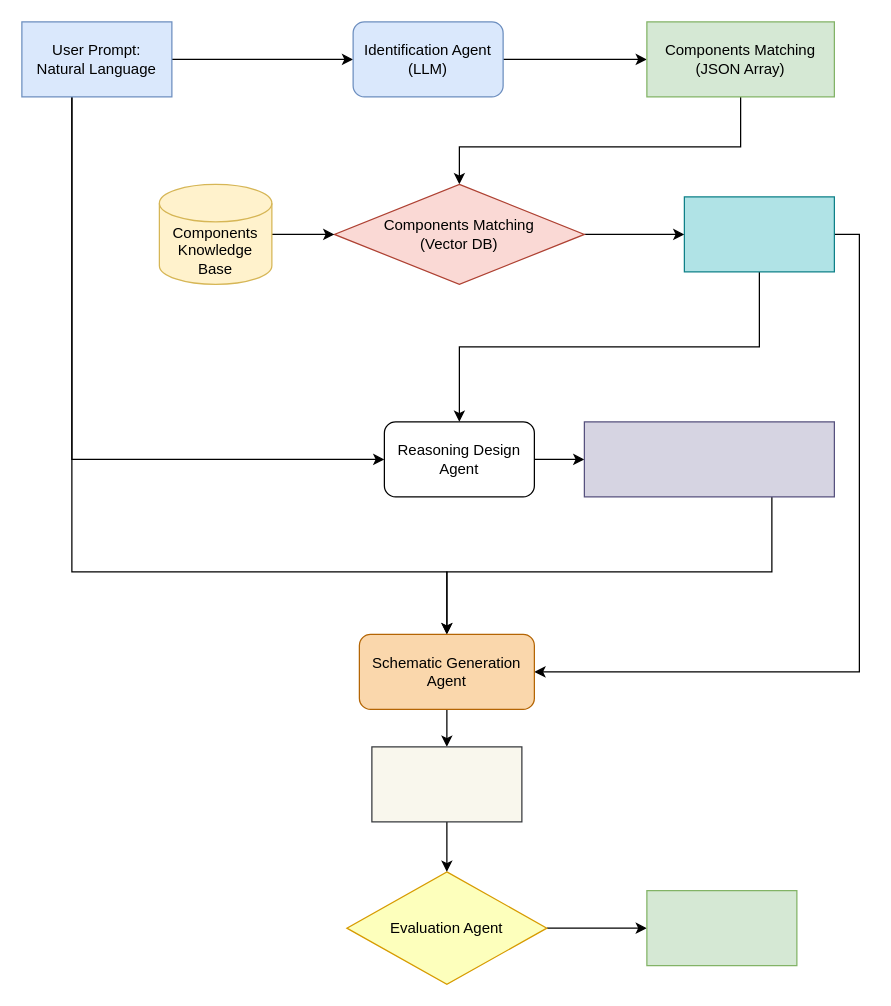
The diagram is 891 pixels wide and 1006 high, and some of its shapes have lost their labels. Each missing label, with the centre of its shape:
"Canonical Components with Pins: JSON" belongs at (x=758, y=234).
"Chain of Thoughts(Text Document): Detailed Wiring Logic" belongs at (x=708, y=459).
"Final Circuit JSON" belongs at (x=446, y=784).
"Score and Verdict" belongs at (x=721, y=927).
